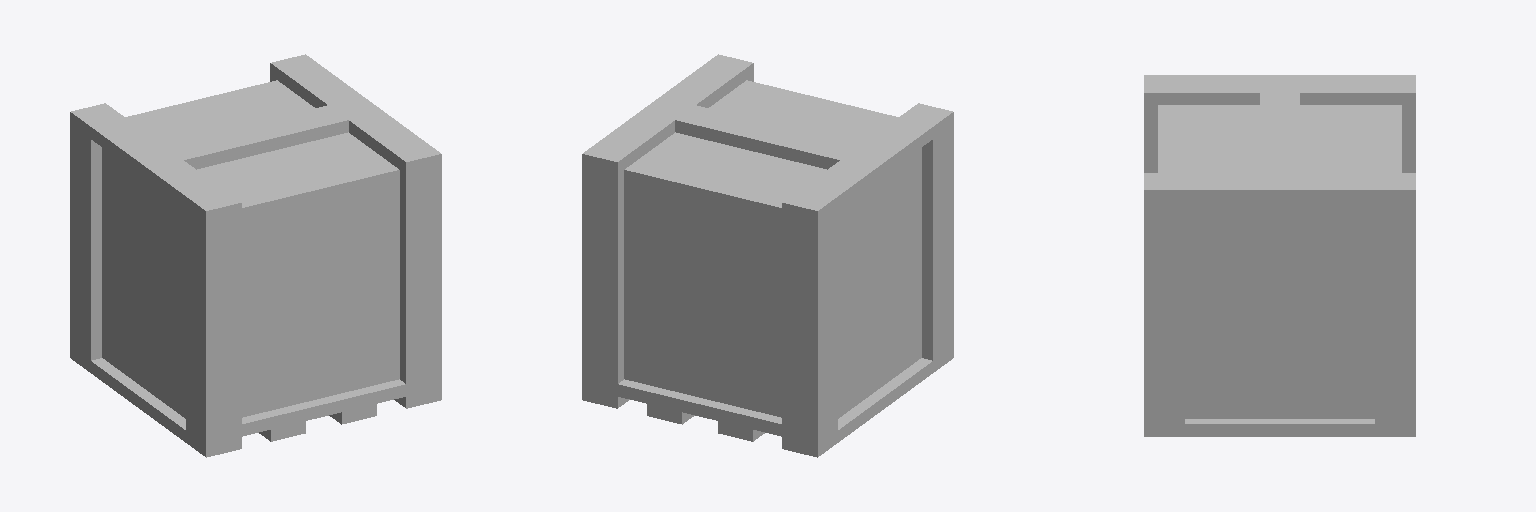
The model's file is Crate01.obj.
3 views of the same model, side by side, from view 1: azimuth 30°, elevation 25°; view 2: azimuth 150°, elevation 25°; view 3: azimuth 270°, elevation 25° (orthographic).
Parts seen in each view (by area): view 1: Cube_Cube.001; view 2: Cube_Cube.001; view 3: Cube_Cube.001.
Part boxes in pixels (x1,y1,x2,y2): Cube_Cube.001: (70,54,441,457); Cube_Cube.001: (582,54,953,457); Cube_Cube.001: (1144,75,1415,436).
Bounding box in the file's own units: 2 × 2 × 2.